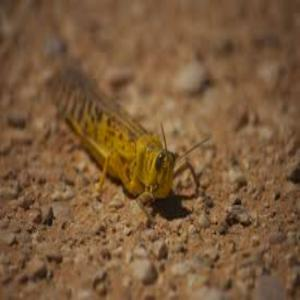locust: (44, 55, 199, 195)
